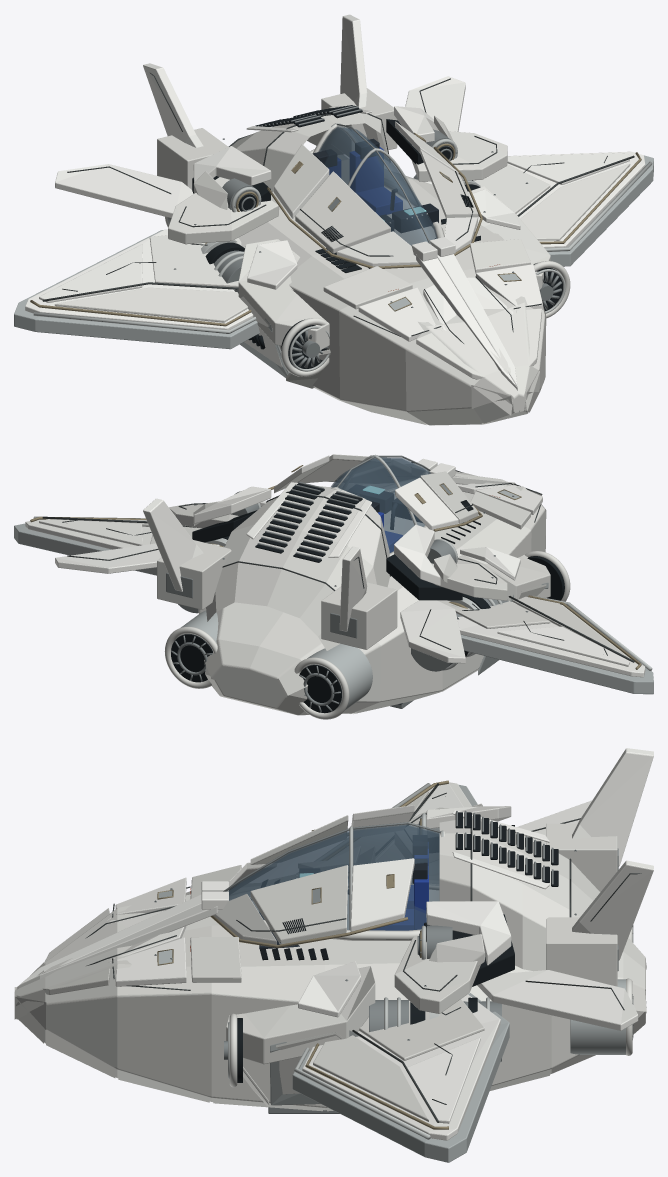
Rendered from spaceship_boat.glb.
The picture shows the model from 3 angles, top to bottom: view 1: azimuth 30°, elevation 25°; view 2: azimuth 150°, elevation 25°; view 3: azimuth 270°, elevation 25°; orthographic projection. The views are drawn at different scales.
Parts seen in each view (by area): view 1: Boat-shaped continuous inner hull, Wing forward long triangle | Mirrored, Aft swept horizontal stabilizer | Mirrored, Full delta wing structural core | Mirrored, Shoulder wing | Mirrored, Single symmetric smoked canopy, Cockpit sill middle | Mirrored, Delta wing upper perimeter armor | Mirrored, Wing outer triangular raised panel | Mirrored, Forward cheek upper armor | Mirrored, Conformal lower hull armor 22 | Mirrored, Wing root triangular raised panel | Mirrored (+33 smaller); view 2: Boat-shaped continuous inner hull, Aft canopy ceramic roof shell | Mirrored, Tail root armored pod | Mirrored, Aft swept horizontal stabilizer | Mirrored, Full delta wing structural core | Mirrored, Swept twin vertical tail | Mirrored, Single symmetric smoked canopy, Delta wing upper perimeter armor | Mirrored, Wing outer triangular raised panel | Mirrored, Upper engine eyebrow armor | Mirrored, Conformal lower hull armor 52 | Mirrored, Shoulder wing | Mirrored (+29 smaller); view 3: Boat-shaped continuous inner hull, Aft canopy ceramic roof shell | Mirrored, Conformal lower hull armor 22 | Mirrored, Swept twin vertical tail | Mirrored, Single symmetric smoked canopy, Cockpit sill middle | Mirrored, Aft swept horizontal stabilizer | Mirrored, Tail root armored pod | Mirrored, Forward cheek upper armor | Mirrored, Full delta wing structural core | Mirrored, Delta wing upper perimeter armor | Mirrored, Cockpit sill aft | Mirrored (+34 smaller).
Boxes of the visible parts, x1,y1,x2,y2 form: Boat-shaped continuous inner hull: (238,159,545,423); Wing forward long triangle | Mirrored: (54,163,630,322); Aft swept horizontal stabilizer | Mirrored: (55,76,465,218); Full delta wing structural core | Mirrored: (14,155,653,349); Shoulder wing | Mirrored: (168,130,507,244); Single symmetric smoked canopy: (318,126,437,245); Cockpit sill middle | Mirrored: (295,150,478,253); Delta wing upper perimeter armor | Mirrored: (25,151,645,329); Wing outer triangular raised panel | Mirrored: (39,153,629,302); Forward cheek upper armor | Mirrored: (238,186,550,350); Conformal lower hull armor 22 | Mirrored: (339,305,545,410); Wing root triangular raised panel | Mirrored: (149,164,550,287); Boat-shaped continuous inner hull: (199,471,545,715); Aft canopy ceramic roof shell | Mirrored: (206,486,389,650); Tail root armored pod | Mirrored: (157,540,397,649); Aft swept horizontal stabilizer | Mirrored: (55,543,465,663); Full delta wing structural core | Mirrored: (14,523,653,694); Swept twin vertical tail | Mirrored: (143,498,367,631); Single symmetric smoked canopy: (331,457,430,552); Delta wing upper perimeter armor | Mirrored: (25,519,645,677); Wing outer triangular raised panel | Mirrored: (39,519,629,666); Upper engine eyebrow armor | Mirrored: (193,486,440,585); Conformal lower hull armor 52 | Mirrored: (198,609,442,700); Shoulder wing | Mirrored: (169,504,507,600); Boat-shaped continuous inner hull: (15,876,646,1110); Aft canopy ceramic roof shell | Mirrored: (439,818,600,970); Conformal lower hull armor 22 | Mirrored: (118,995,209,1095); Swept twin vertical tail | Mirrored: (572,748,653,960); Single symmetric smoked canopy: (227,824,439,930); Cockpit sill middle | Mirrored: (250,815,348,944); Aft swept horizontal stabilizer | Mirrored: (477,800,638,1030); Tail root armored pod | Mirrored: (546,823,617,986); Forward cheek upper armor | Mirrored: (226,847,375,1064); Full delta wing structural core | Mirrored: (292,784,509,1162); Delta wing upper perimeter armor | Mirrored: (302,782,500,1140); Cockpit sill aft | Mirrored: (350,805,414,931).
Bounding box in the file's own units: 11.45 × 4.01 × 8.47.
